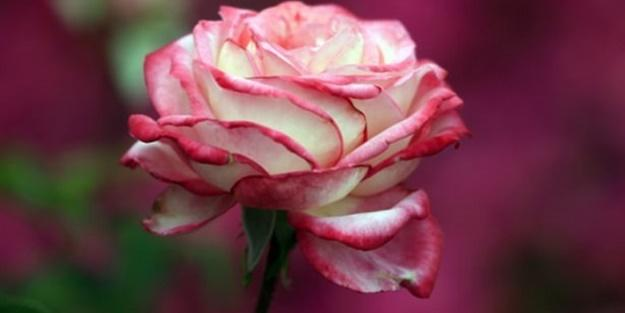Rose: (118, 2, 468, 300)
